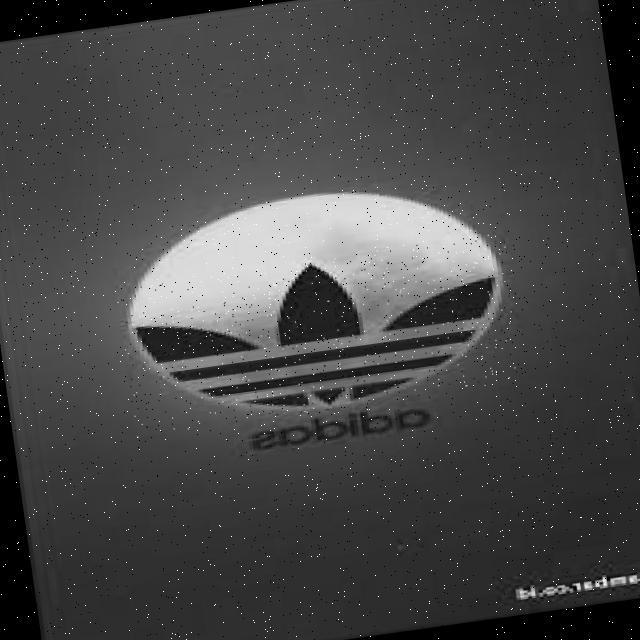Adidas: (115, 233, 525, 438)
